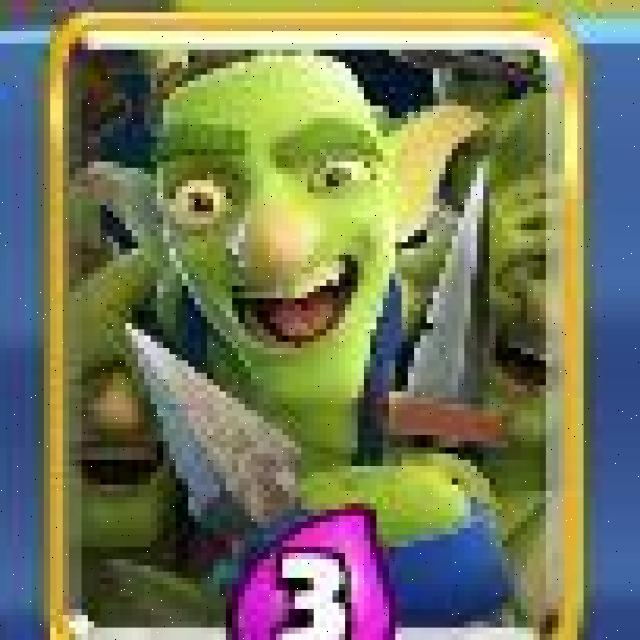Goblin_Gang: (42, 13, 585, 640)
